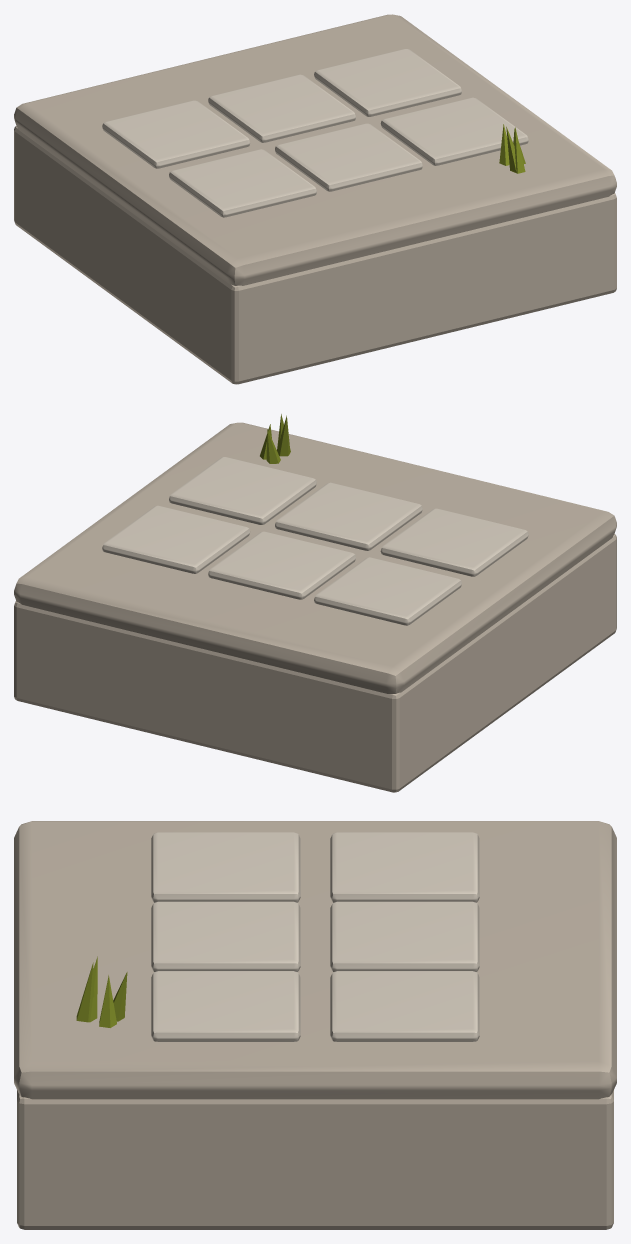
The model's file is tile_stone_road.glb.
3 views of the same model, one above another, from view 1: azimuth 30°, elevation 25°; view 2: azimuth 150°, elevation 25°; view 3: azimuth 270°, elevation 25° (orthographic). The views are drawn at different scales.
Parts seen in each view (by area): view 1: ro_cap, ro_body, ro_s00, ro_s01, ro_s10, ro_s11, ro_s21, ro_s20; view 2: ro_cap, ro_body, ro_s01, ro_s00, ro_s21, ro_s11, ro_s10, ro_s20; view 3: ro_cap, ro_body, ro_s20, ro_s21, ro_s00, ro_s01, ro_s10, ro_s11.
Part boxes in pixels (<box>): ro_cap: <box>14,14,616,285</box>; ro_body: <box>14,126,616,384</box>; ro_s00: <box>169,149,316,217</box>; ro_s01: <box>102,100,250,168</box>; ro_s10: <box>275,123,422,191</box>; ro_s11: <box>208,74,355,142</box>; ro_s21: <box>314,49,461,116</box>; ro_s20: <box>380,97,528,165</box>; ro_cap: <box>14,422,616,693</box>; ro_body: <box>14,534,616,792</box>; ro_s01: <box>314,557,461,625</box>; ro_s00: <box>380,508,528,576</box>; ro_s21: <box>102,505,250,573</box>; ro_s11: <box>208,531,355,599</box>; ro_s10: <box>275,482,422,550</box>; ro_s20: <box>169,457,316,524</box>; ro_cap: <box>14,821,616,1099</box>; ro_body: <box>17,1090,613,1229</box>; ro_s20: <box>151,971,300,1041</box>; ro_s21: <box>330,971,479,1041</box>; ro_s00: <box>151,832,300,902</box>; ro_s01: <box>330,832,479,902</box>; ro_s10: <box>151,901,300,971</box>; ro_s11: <box>330,901,479,971</box>.
Bounding box in the file's own units: 2.02 × 0.8241 × 2.02.
